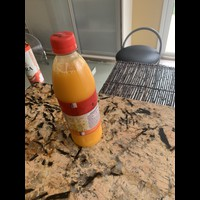maguary: (45, 33, 108, 152)
